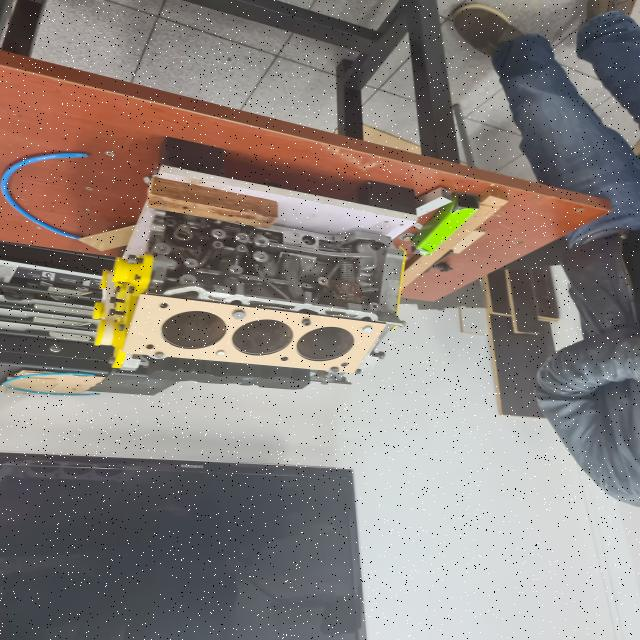vista1: (122, 294, 387, 373)
